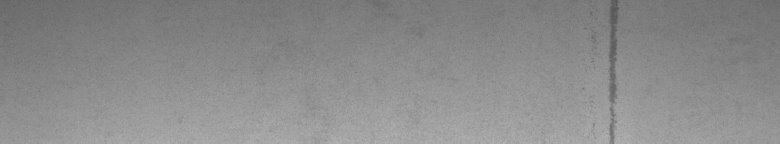hd: (604, 4, 627, 136)
